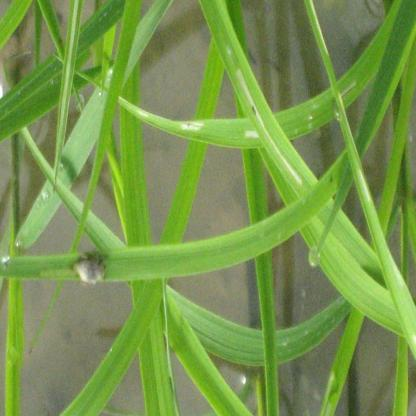rice-bug: (72, 249, 108, 286)
